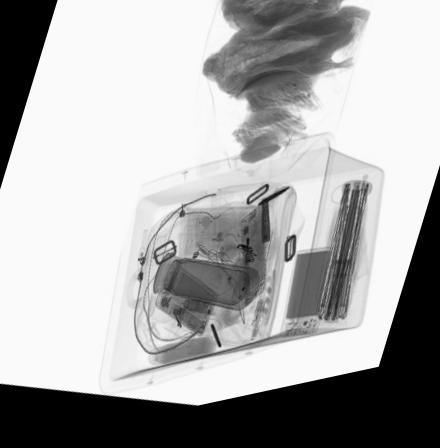Powerbank: (279, 264, 331, 350)
